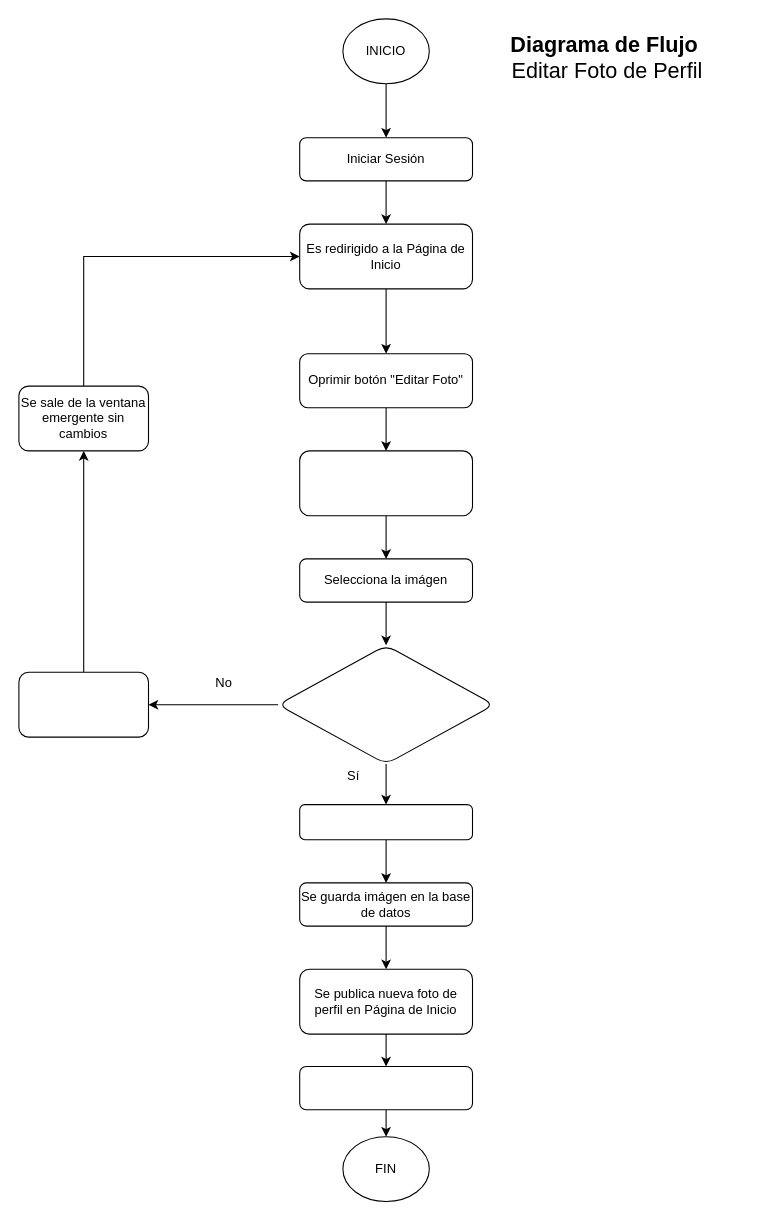
Image size: 767x1220. Some labels were removed from this diagram. The shapes that lost their labels are listed below. From the top down, each one's centre as x and y in pixels, then its label:
pixel 386 483: Se abre ventana emergente de selección
pixel 83 704: Oprimir botón "Cancelar"
pixel 385 704: ¿El usuario va querer realizar la acción del cambio de foto de perfil?
pixel 386 822: Oprimir botón "Aceptar"
pixel 386 1087: Es redirigido a Página de Inicio
